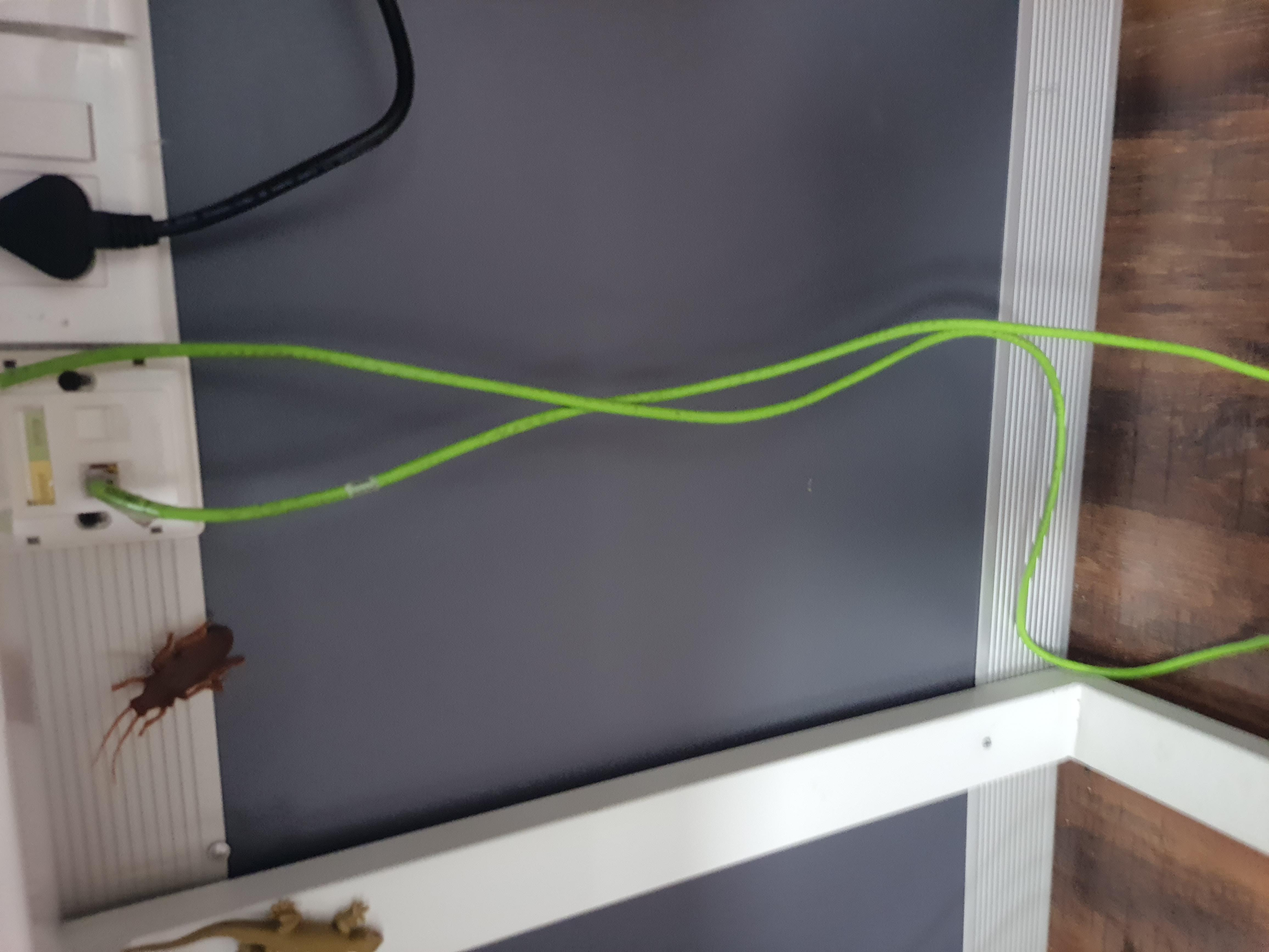cockroach: (253, 66, 451, 190)
lizard: (0, 99, 59, 297)
